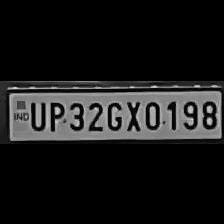0: (142, 97, 162, 129)
1: (162, 96, 178, 130)
2: (84, 97, 104, 131)
3: (66, 97, 84, 130)
8: (198, 96, 218, 128)
9: (179, 95, 199, 129)
G: (104, 97, 124, 131)
P: (44, 97, 64, 131)
U: (27, 97, 46, 130)
X: (122, 97, 142, 131)
